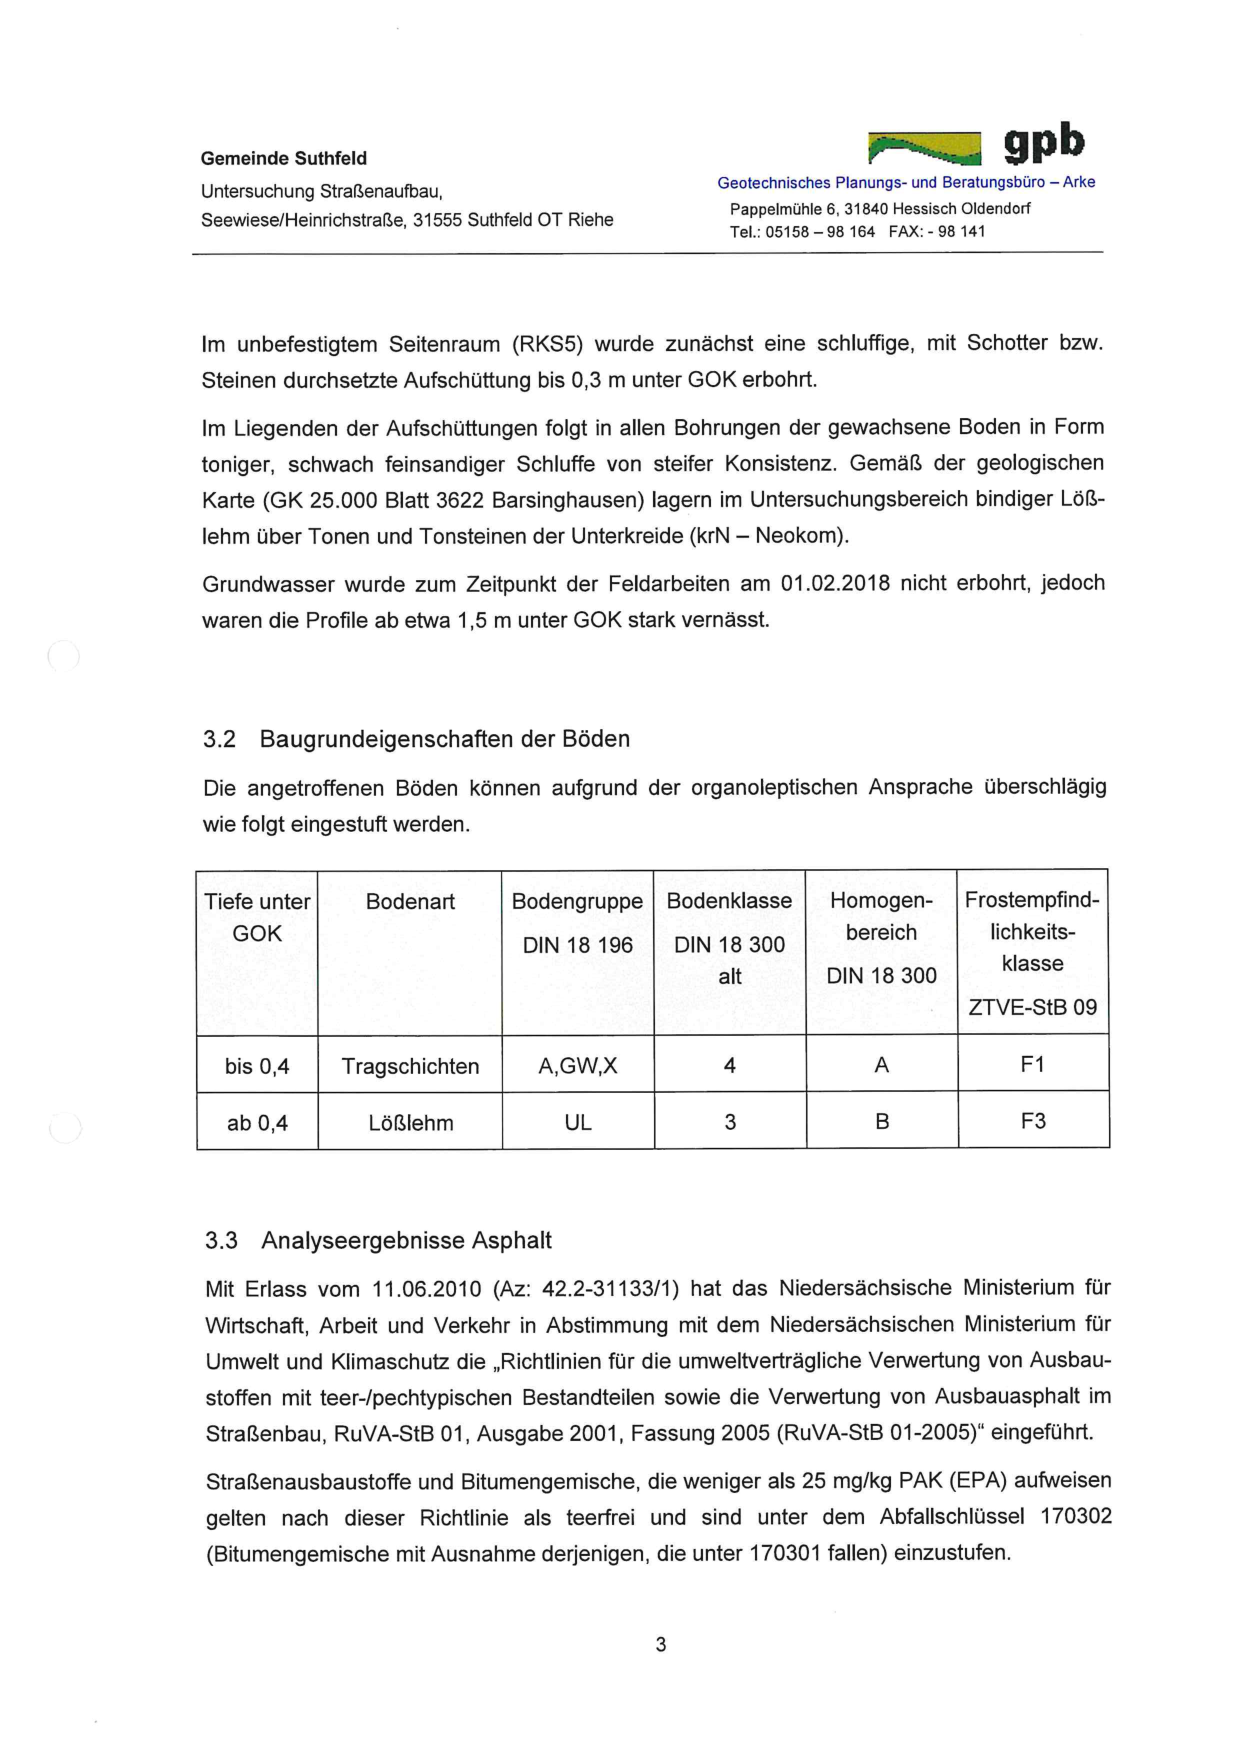table: (178, 862, 1123, 1162)
